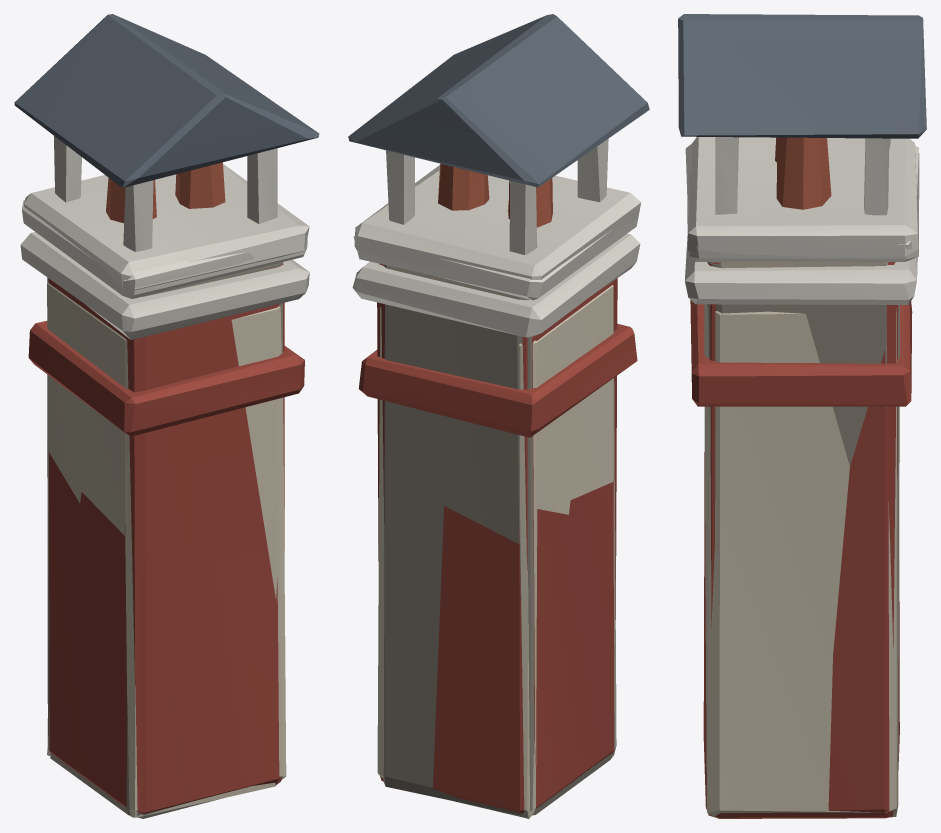
The model's file is chimney.glb.
The picture shows the model from 3 angles, left to right: view 1: azimuth 30°, elevation 25°; view 2: azimuth 150°, elevation 25°; view 3: azimuth 270°, elevation 25°; orthographic projection. The views are drawn at different scales.
Parts seen in each view (by area): view 1: chimney.v0.mesh, chimney.v2.mesh, chimney.v1.mesh; view 2: chimney.v2.mesh, chimney.v0.mesh, chimney.v1.mesh; view 3: chimney.v1.mesh, chimney.v2.mesh, chimney.v0.mesh.
Part boxes in pixels (left/top/right/bottom): chimney.v0.mesh: left=22, top=162, right=307, bottom=813; chimney.v2.mesh: left=14, top=14, right=319, bottom=818; chimney.v1.mesh: left=20, top=232, right=309, bottom=817; chimney.v2.mesh: left=348, top=14, right=649, bottom=815; chimney.v0.mesh: left=353, top=163, right=639, bottom=813; chimney.v1.mesh: left=352, top=233, right=640, bottom=818; chimney.v1.mesh: left=685, top=236, right=917, bottom=817; chimney.v2.mesh: left=678, top=14, right=926, bottom=817; chimney.v0.mesh: left=685, top=137, right=919, bottom=818.
Bounding box in the file's own units: 0.5292 × 1.85 × 0.5428.
